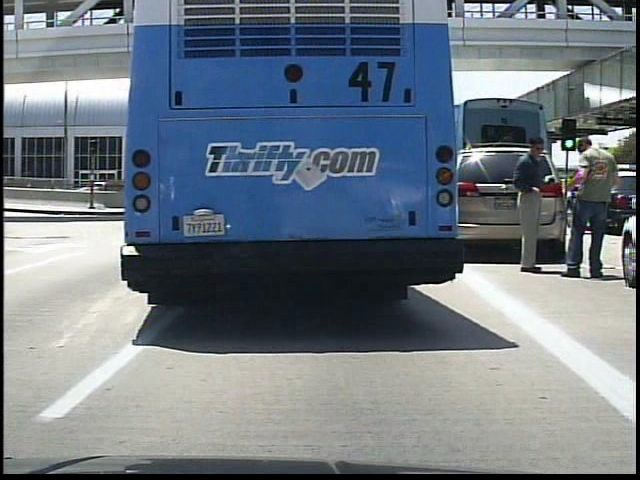person: (559, 121, 617, 286), (510, 131, 559, 274)
